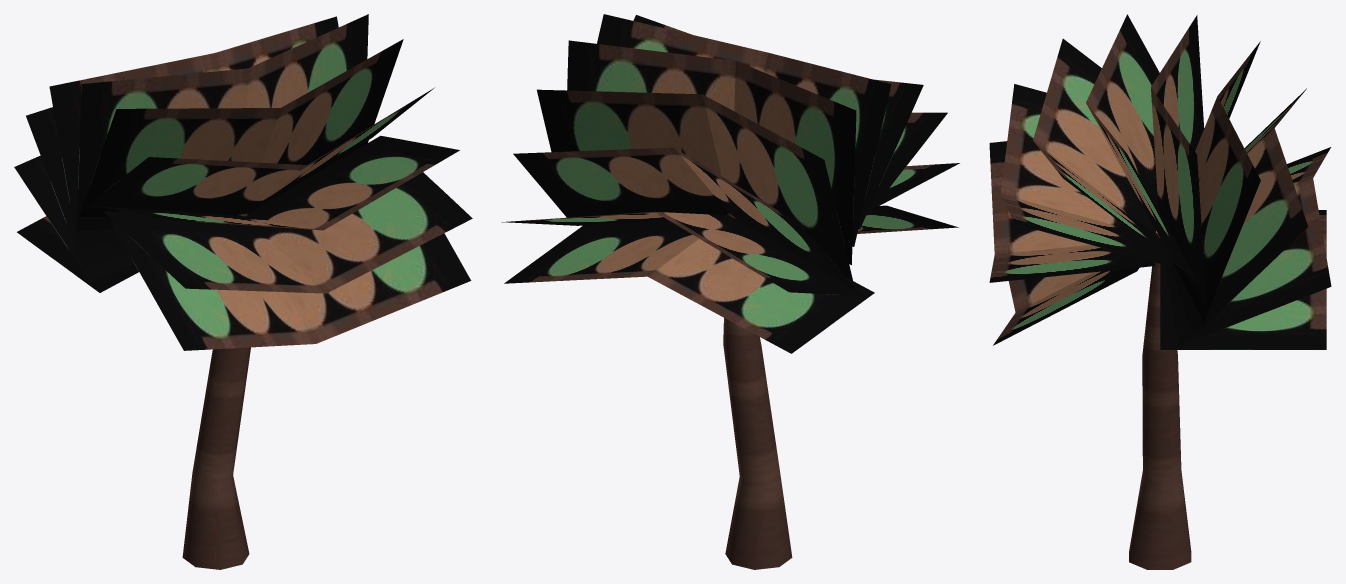
File: Canyon_Tree_4.glb
3 renders of one model, left to right at view 1: azimuth 30°, elevation 25°; view 2: azimuth 150°, elevation 25°; view 3: azimuth 270°, elevation 25°, orthographic.
Visible parts, largest first — view 1: Canyon_Tree_4_1, Canyon_Tree_4_0; view 2: Canyon_Tree_4_1, Canyon_Tree_4_0; view 3: Canyon_Tree_4_1, Canyon_Tree_4_0.
Part boxes in pixels (x1,y1,x2,y2): Canyon_Tree_4_1: (14, 14, 472, 350); Canyon_Tree_4_0: (182, 213, 250, 569); Canyon_Tree_4_1: (501, 14, 959, 353); Canyon_Tree_4_0: (723, 213, 792, 569); Canyon_Tree_4_1: (989, 14, 1331, 349); Canyon_Tree_4_0: (1129, 231, 1191, 569).
Bounding box in the file's own units: 2.26 × 3.67 × 2.34.
Materials: 2 (2 with a texture image).
